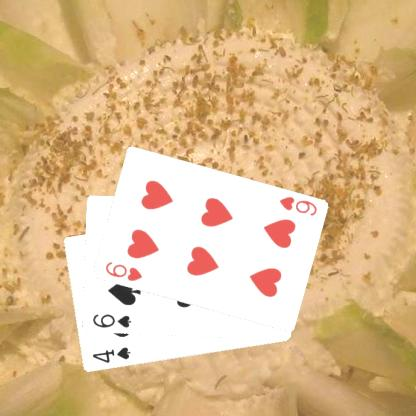4S: (90, 344, 132, 365)
6H: (276, 194, 318, 218), (102, 258, 143, 282)
6S: (90, 312, 132, 329)
